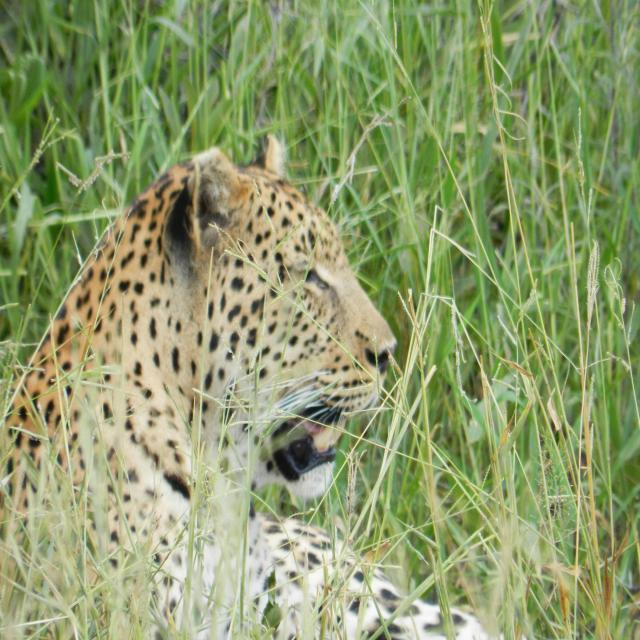Leopard: (6, 121, 521, 640)
